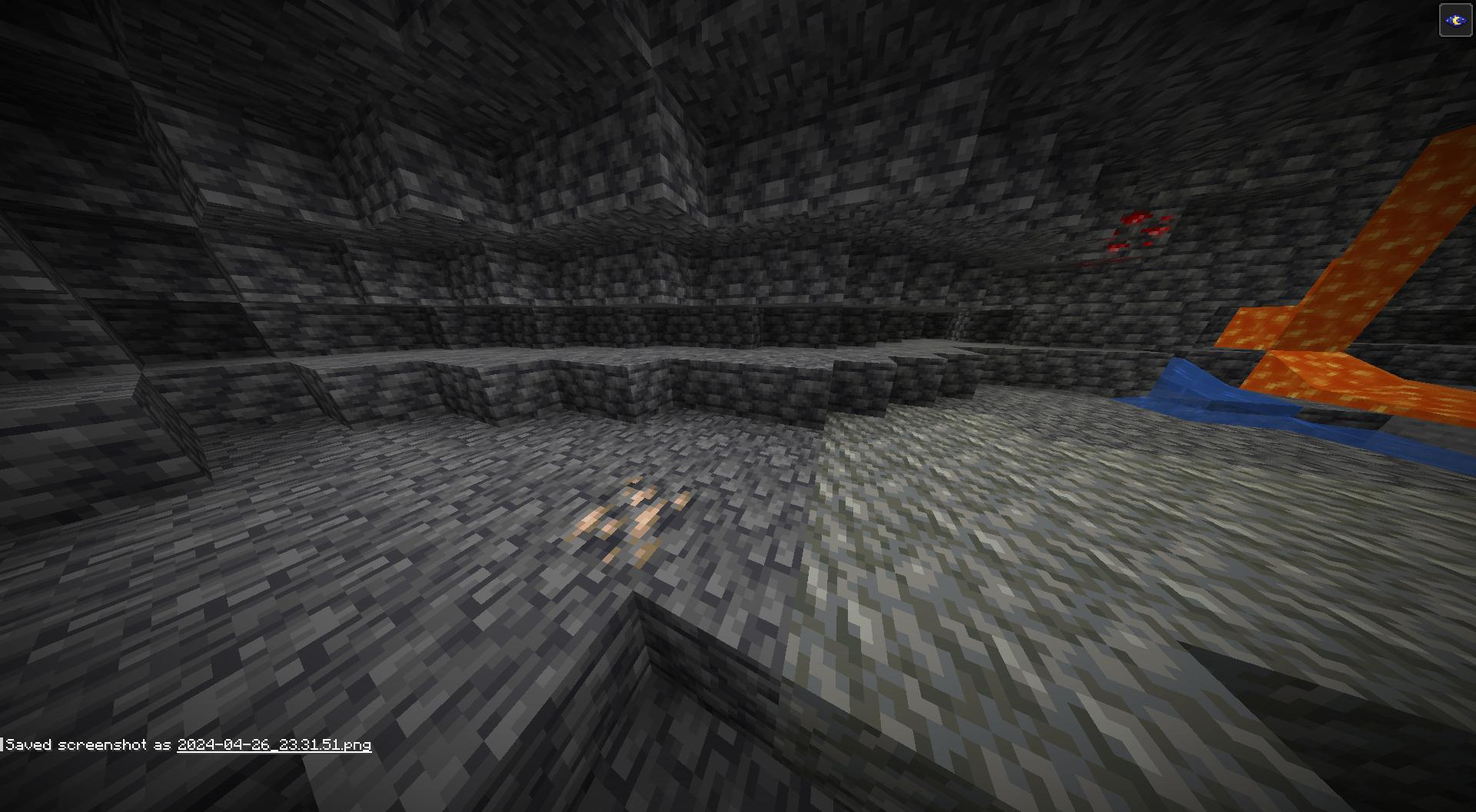iron ore: (566, 477, 703, 566)
redstone ore: (1091, 209, 1173, 273)
